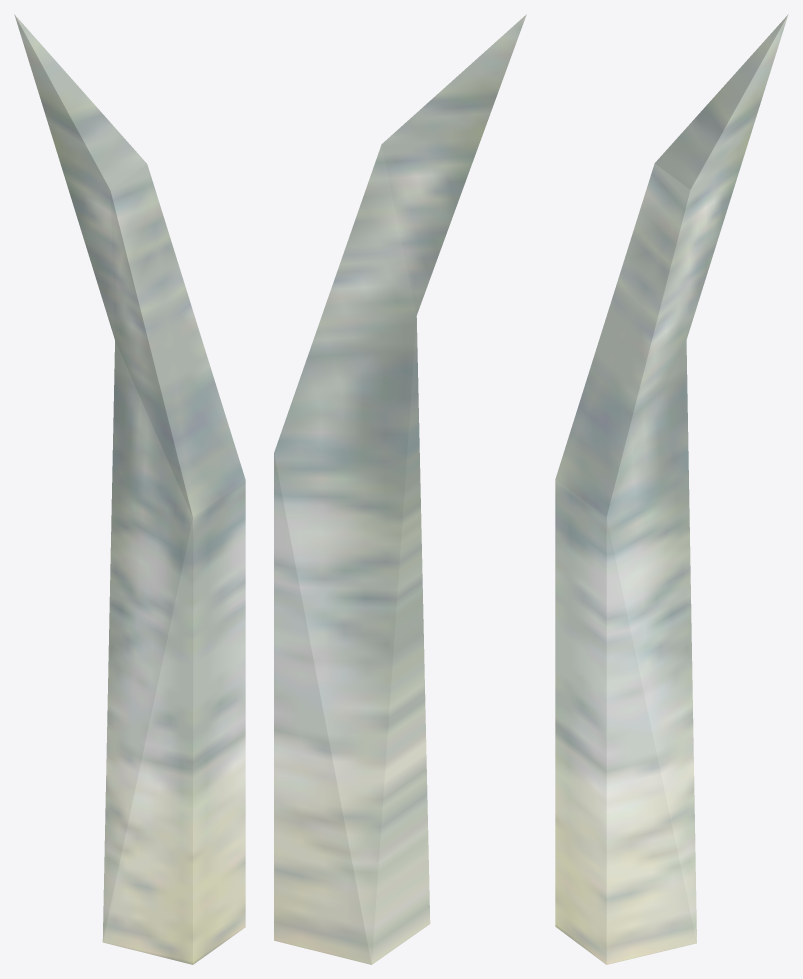
File: rib08.glb
The picture shows the model from 3 angles, left to right: view 1: azimuth 30°, elevation 25°; view 2: azimuth 210°, elevation 25°; view 3: azimuth 270°, elevation 25°; orthographic projection. The views are drawn at different scales.
Visible parts, largest first — view 1: rib08; view 2: rib08; view 3: rib08.
Boxes of the visible parts, x1=… form: rib08: x1=14, y1=14, x2=245, y2=964; rib08: x1=274, y1=14, x2=526, y2=964; rib08: x1=555, y1=14, x2=788, y2=964.
Bounding box in the file's own units: 397 × 2379 × 570.
1 material, 1 textured.
